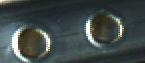joints: (84, 8, 124, 47), (12, 23, 52, 60)
